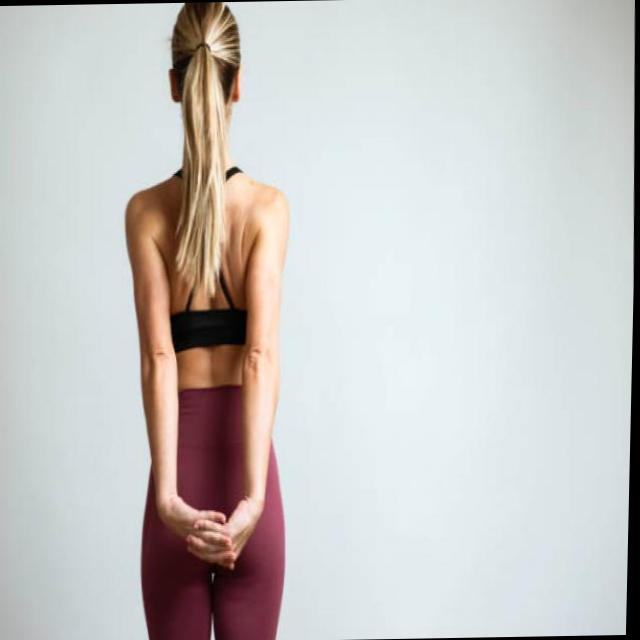no helmet: (126, 1, 268, 197)
